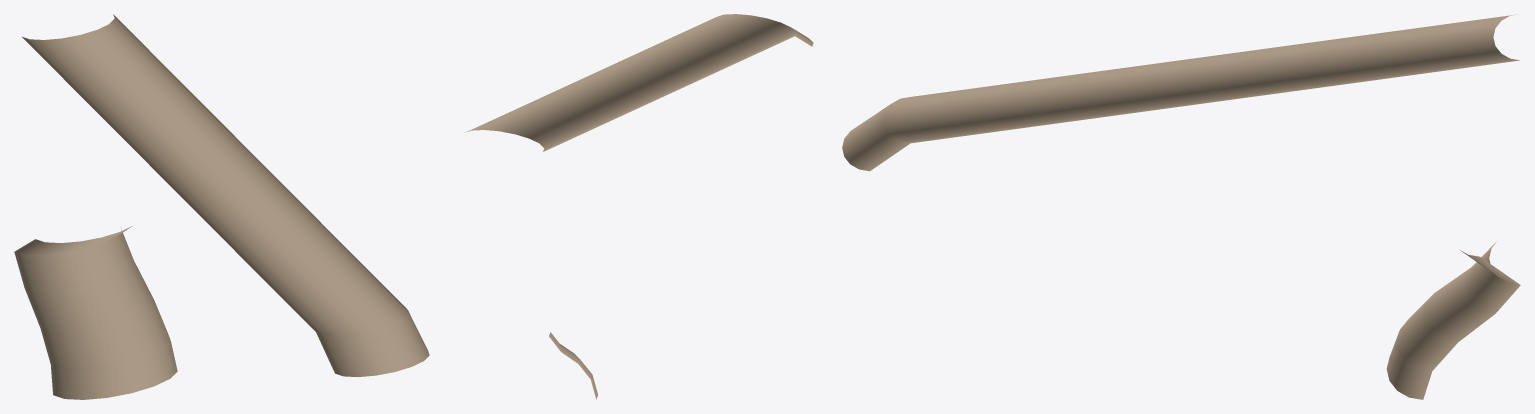
The model's file is straight.glb.
3 views of the same model, side by side, from view 1: azimuth 30°, elevation 25°; view 2: azimuth 150°, elevation 25°; view 3: azimuth 270°, elevation 25° (orthographic). The views are drawn at different scales.
Parts seen in each view (by area): view 1: noses_straight; view 2: noses_straight; view 3: noses_straight.
Part boxes in pixels (bbox=[...]): noses_straight: bbox=[14, 14, 429, 399]; noses_straight: bbox=[465, 14, 813, 399]; noses_straight: bbox=[842, 14, 1520, 399].
Bounding box in the file's own units: 0.12 × 0.3 × 0.5561.
